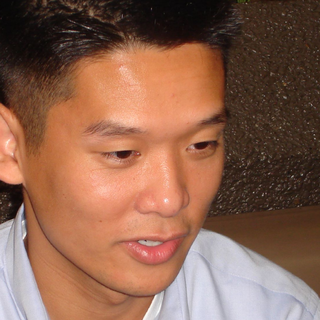eye: (88, 144, 143, 164), (181, 138, 219, 155)
